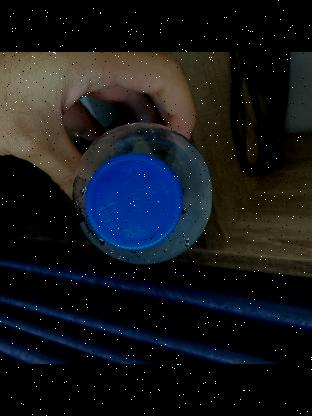Plastic Bottle: (67, 121, 217, 269)
